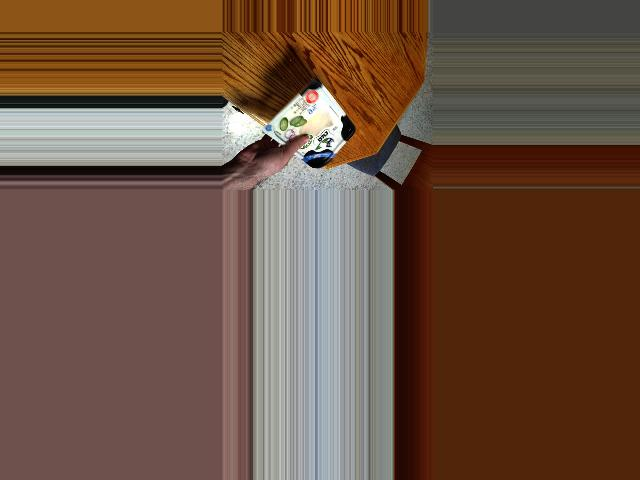cheese: (279, 89, 347, 168)
